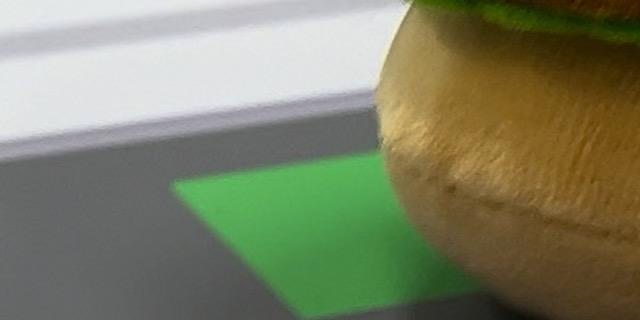burger: (322, 0, 640, 320)
